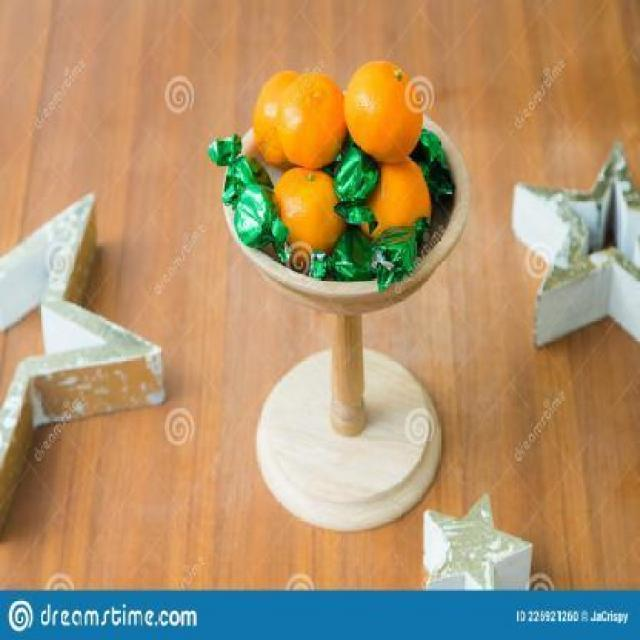Jeruk Sudah Matang: (268, 166, 347, 265), (348, 57, 422, 160), (273, 69, 347, 168), (352, 153, 434, 242), (253, 70, 307, 168)
